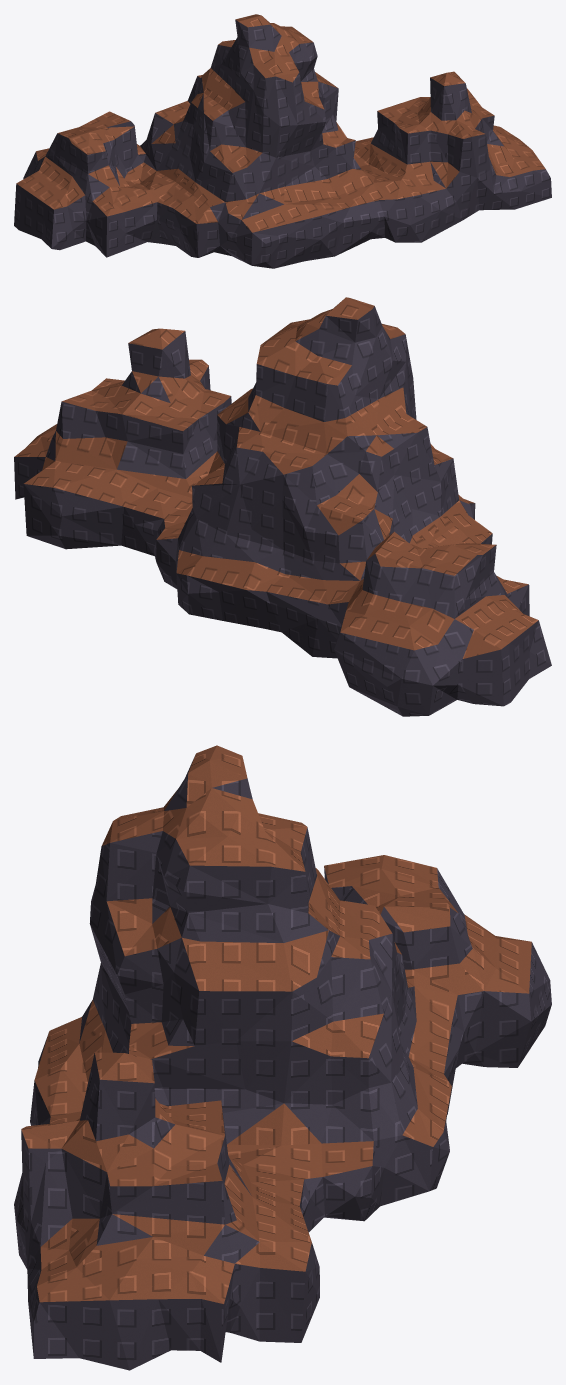
The model's file is BasaltRocks.glb.
The picture shows the model from 3 angles, top to bottom: view 1: azimuth 30°, elevation 25°; view 2: azimuth 150°, elevation 25°; view 3: azimuth 270°, elevation 25°; orthographic projection. The views are drawn at different scales.
Parts seen in each view (by area): view 1: BasaltRocks_Rock, BasaltRocks_Top; view 2: BasaltRocks_Rock, BasaltRocks_Top; view 3: BasaltRocks_Rock, BasaltRocks_Top.
Boxes of the visible parts, box(x1,y1,x2,y2) form: BasaltRocks_Rock: box(14, 20, 551, 268); BasaltRocks_Top: box(16, 14, 545, 232); BasaltRocks_Rock: box(14, 306, 551, 716); BasaltRocks_Top: box(14, 297, 538, 658); BasaltRocks_Rock: box(14, 757, 551, 1370); BasaltRocks_Top: box(21, 745, 531, 1303).
Size of the model in its own units: 26.36 by 12.95 by 15.49.
2 materials, 2 textured.
